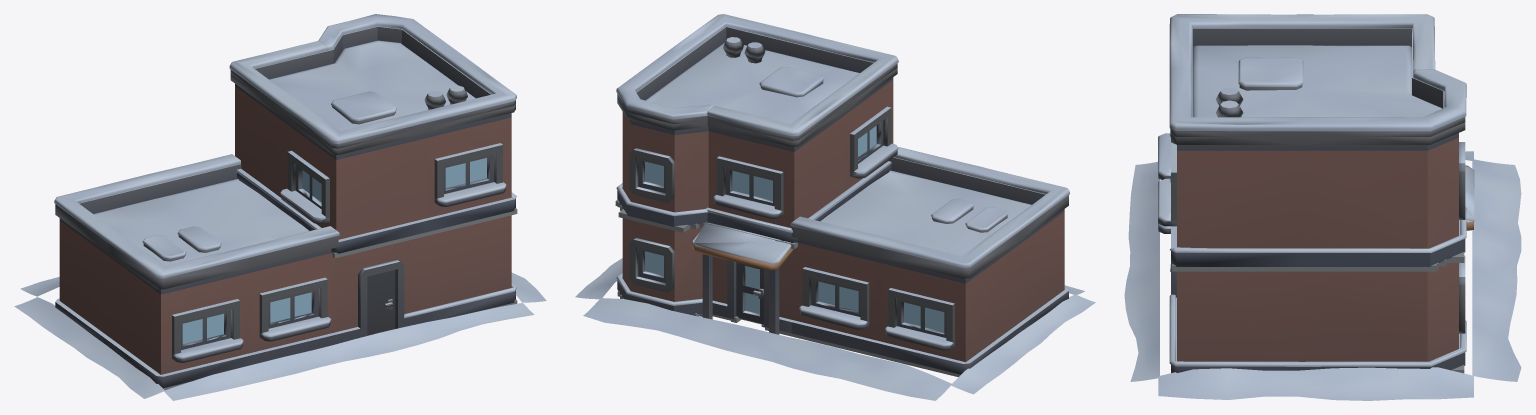
The model's file is bldg_e.glb.
The picture shows the model from 3 angles, left to right: view 1: azimuth 30°, elevation 25°; view 2: azimuth 150°, elevation 25°; view 3: azimuth 270°, elevation 25°; orthographic projection. The views are drawn at different scales.
Parts seen in each view (by area): view 1: Base, Roof; view 2: Base, Roof; view 3: Base, Roof.
Part boxes in pixels (bbox=[...]): Base: bbox=[14, 32, 546, 400]; Roof: bbox=[229, 14, 516, 148]; Base: bbox=[575, 32, 1095, 400]; Roof: bbox=[616, 14, 898, 140]; Base: bbox=[1124, 35, 1521, 400]; Roof: bbox=[1169, 14, 1466, 136].
Size of the model in its own units: 17.92 by 8.74 by 12.04.
